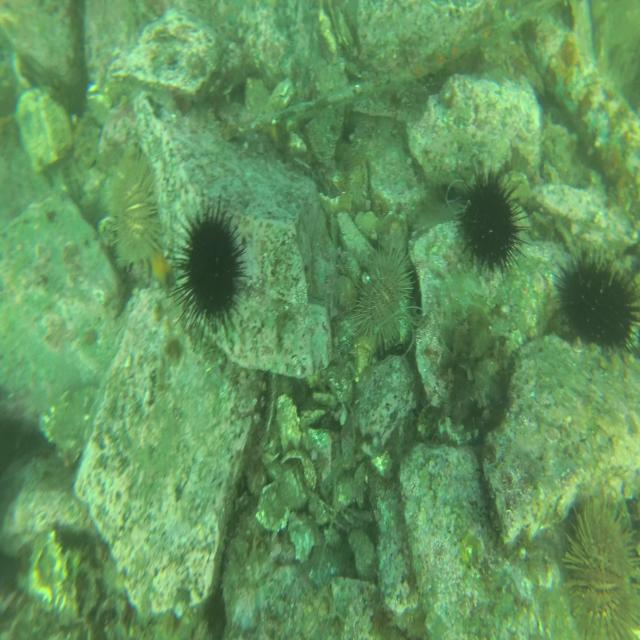echinus: (562, 490, 640, 640), (169, 202, 247, 341), (557, 243, 640, 358), (457, 168, 526, 281), (99, 159, 162, 269), (358, 244, 417, 345)
starfish: (149, 245, 169, 285)
